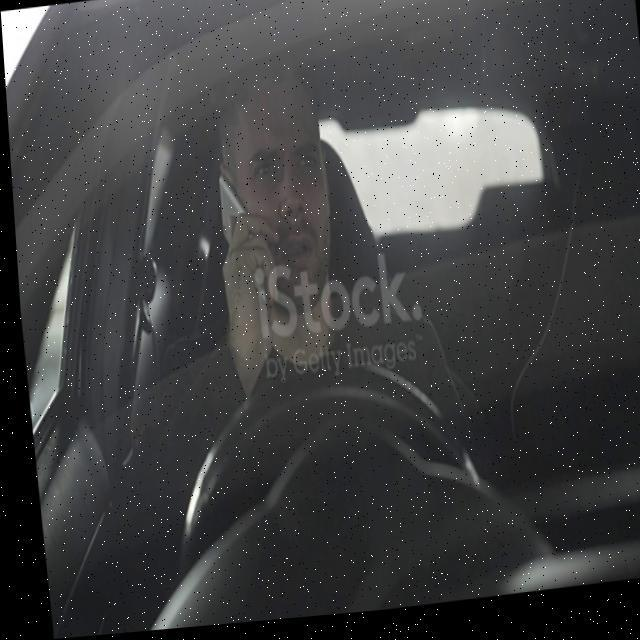PhoneCall: (213, 178, 274, 299)
